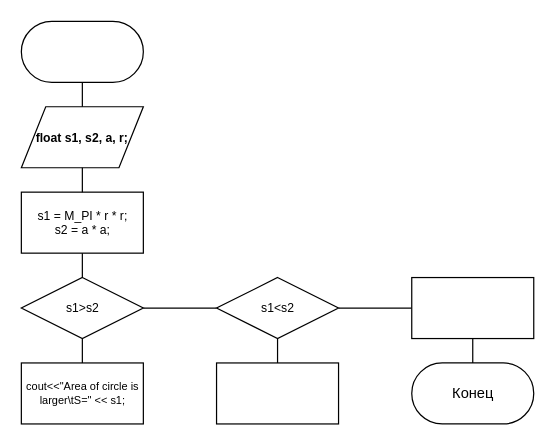
Image size: 555x445. Some labels were removed from this diagram. Here are the shapes that lost their labels. From the top down, the centre of each, then its label:
point 81,51: Начало
point 472,307: cout << "Areas are equal"
point 277,393: cout << "Area of square is larger\tS=" << s2;
